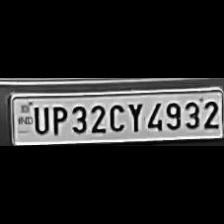2: (87, 100, 105, 134), (200, 97, 218, 129)
3: (68, 102, 88, 134), (181, 98, 199, 130)
4: (144, 99, 162, 131)
9: (162, 99, 182, 130)
C: (106, 100, 124, 132)
P: (48, 103, 68, 135)
U: (31, 102, 49, 134)
Y: (125, 100, 142, 132)
